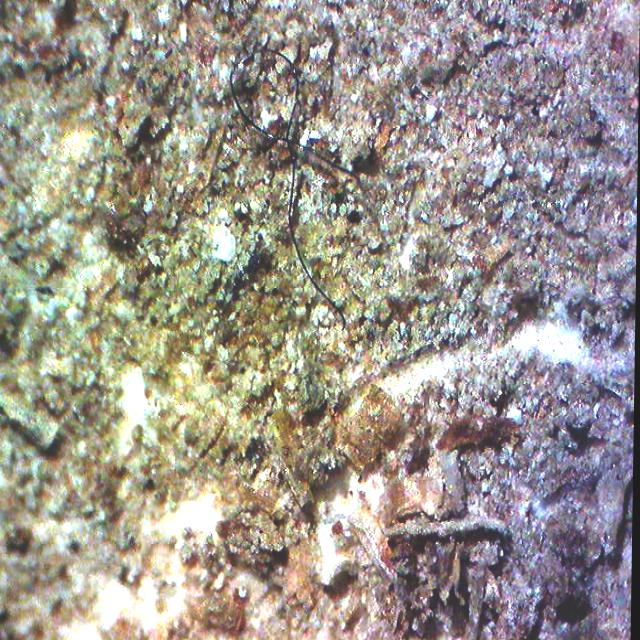microplastic: (287, 142, 348, 331), (229, 47, 299, 143)
